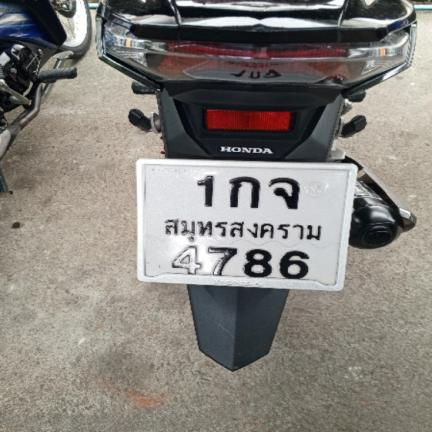1: (191, 174, 216, 208)
4: (169, 244, 202, 276)
6: (278, 247, 313, 279)
7: (204, 244, 237, 277)
8: (240, 244, 273, 279)
A01: (223, 173, 261, 210)
A08: (267, 174, 305, 210)
SKM: (160, 215, 323, 243)
